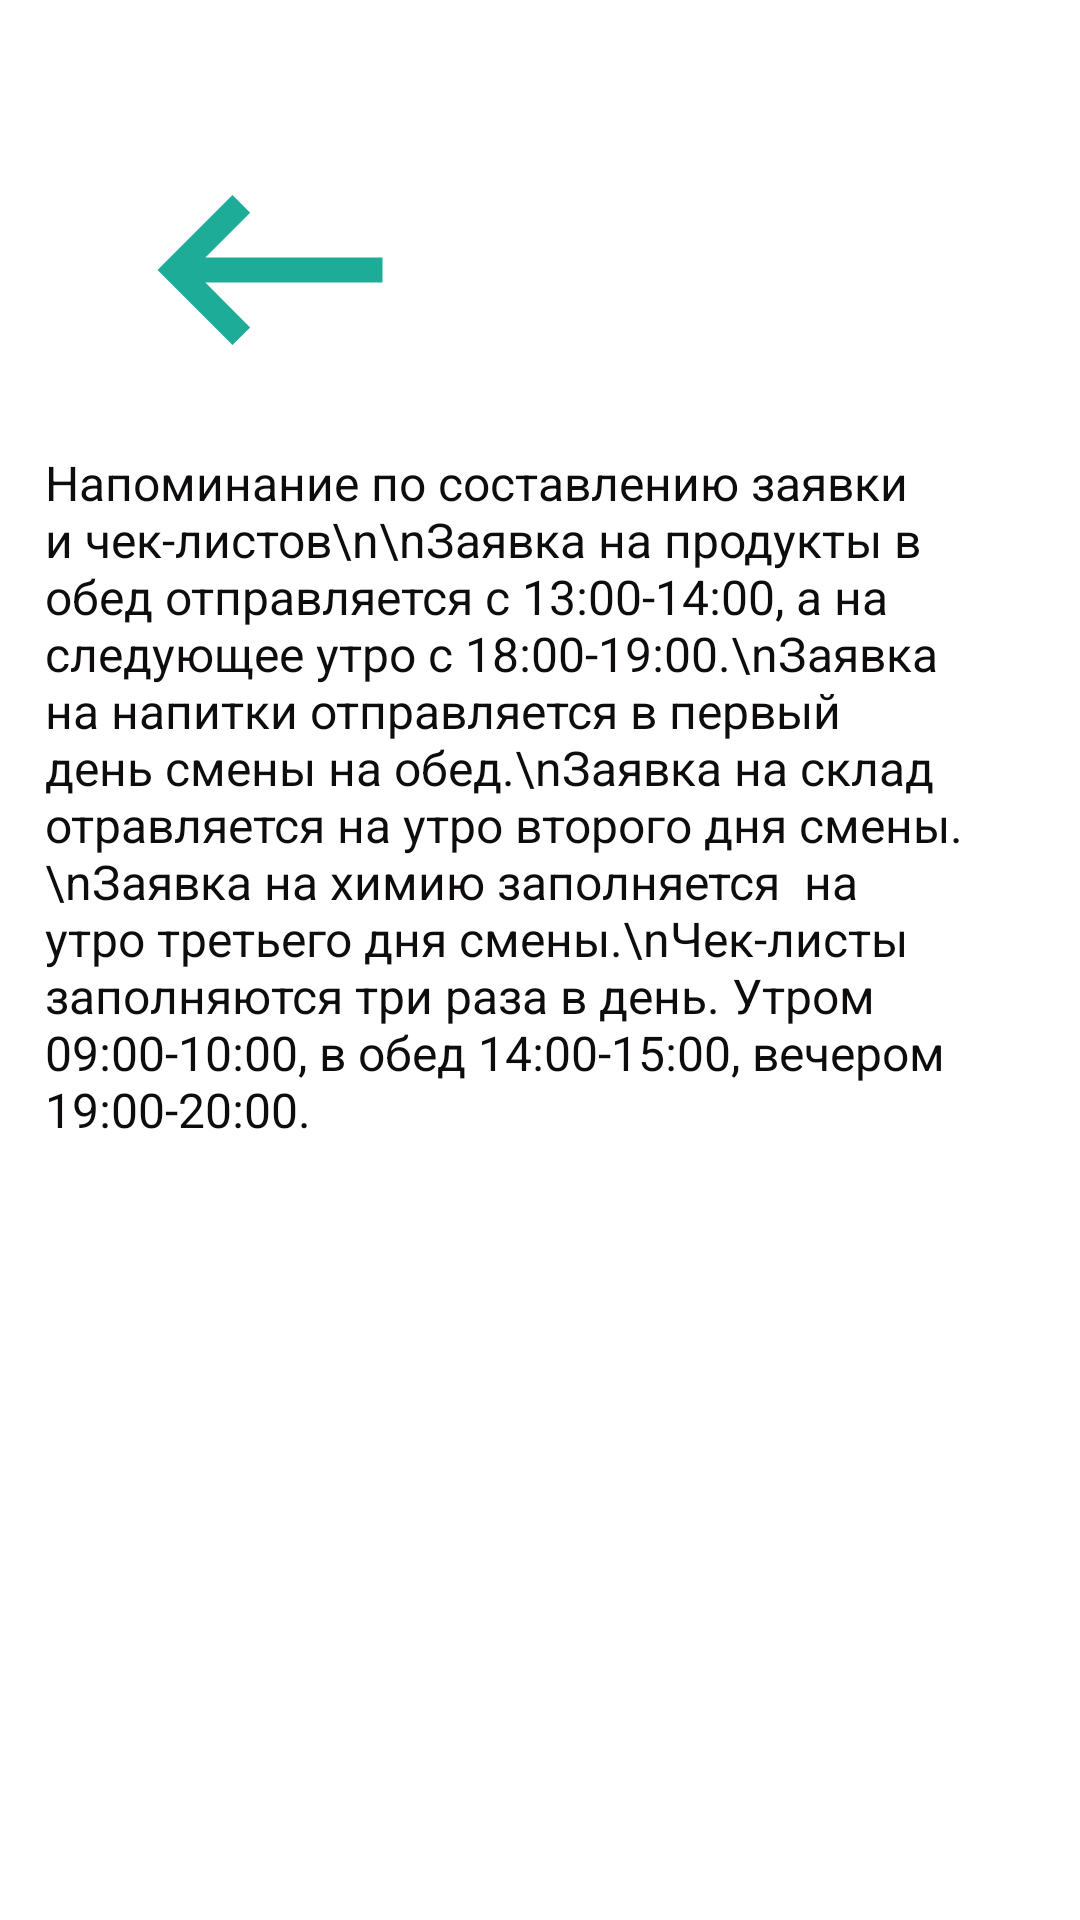

Point at icon controls on the screen. Image size 1080px×1920px, points as point (x, y).
keyboard backspace: point (270, 270)
